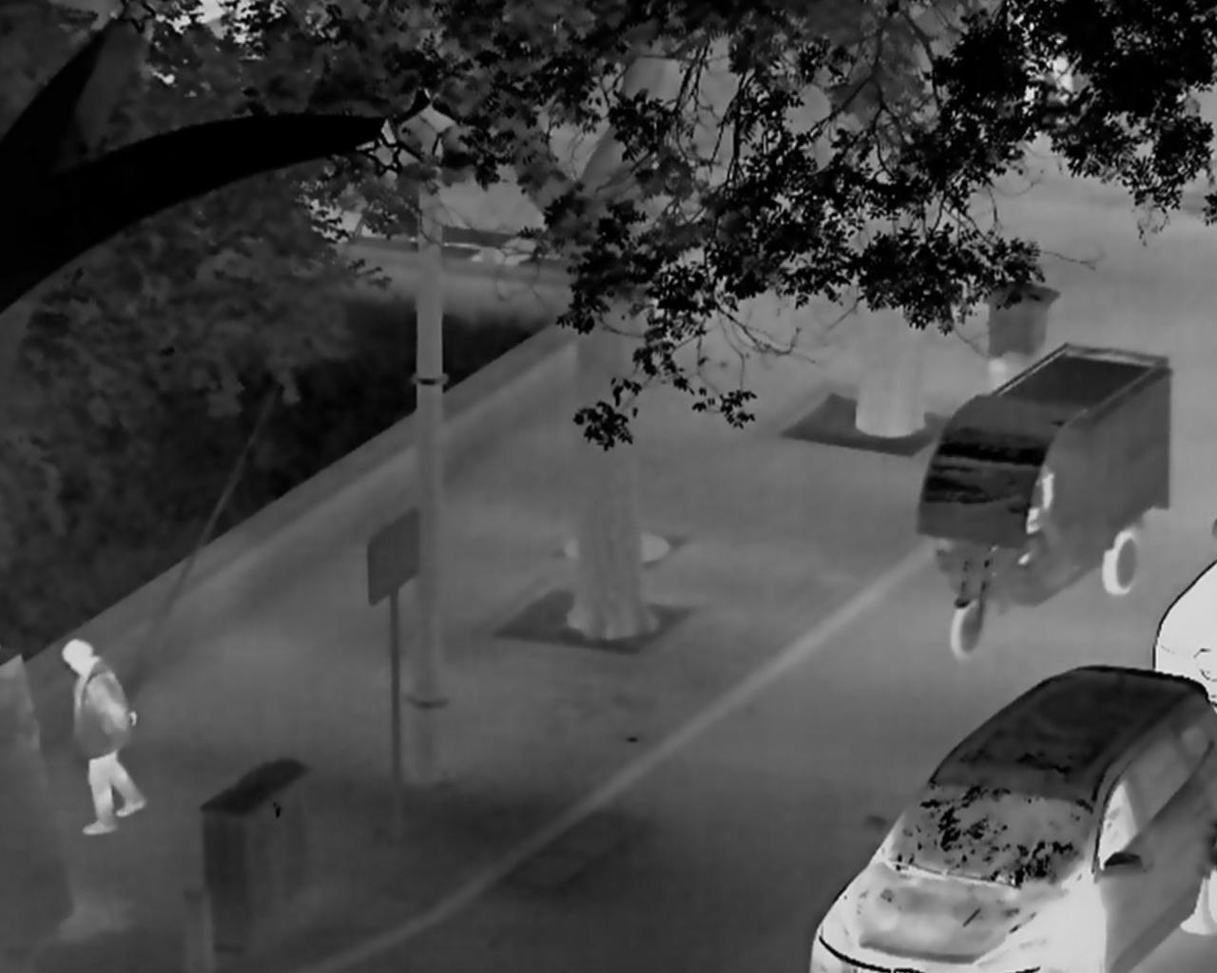person: (59, 637, 149, 838)
